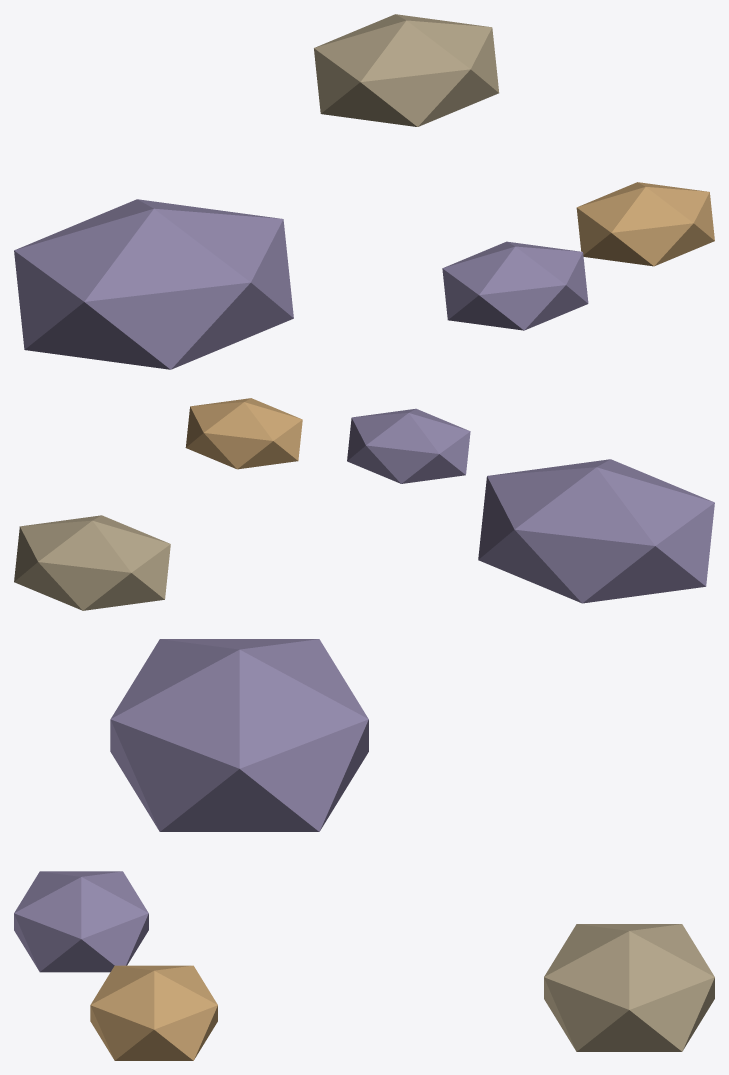
The model's file is pebbles.glb.
3 renders of one model, top to bottom at view 1: azimuth 30°, elevation 25°; view 2: azimuth 150°, elevation 25°; view 3: azimuth 270°, elevation 25°, orthographic. The views are drawn at different scales.
Parts seen in each view (by area): view 1: pebbles; view 2: pebbles; view 3: pebbles.
Part boxes in pixels (bbox=[...]): pebbles: bbox=[14, 14, 714, 369]; pebbles: bbox=[14, 398, 714, 610]; pebbles: bbox=[14, 639, 714, 1060].
Size of the model in its own units: 1.74 by 0.389 by 1.44.
